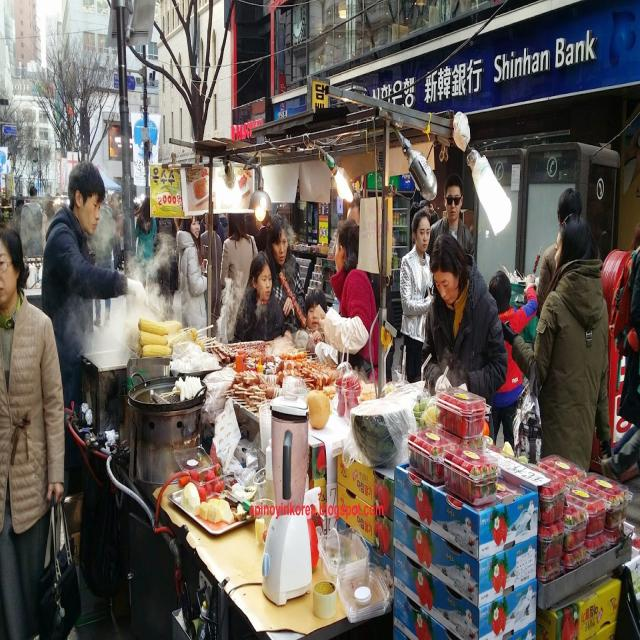body: (499, 208, 614, 477), (38, 156, 146, 424), (0, 217, 65, 640), (418, 229, 509, 452), (315, 217, 381, 386), (488, 269, 538, 458), (397, 206, 435, 384), (534, 186, 584, 319), (263, 212, 307, 338), (218, 212, 260, 344), (232, 248, 287, 344), (174, 214, 209, 352), (344, 192, 380, 320), (426, 172, 476, 264), (151, 182, 181, 330), (88, 192, 116, 327), (200, 213, 223, 317), (19, 184, 44, 258), (134, 195, 158, 264), (304, 288, 328, 343), (40, 191, 56, 256), (109, 192, 120, 272), (200, 214, 224, 240), (116, 208, 124, 264), (104, 191, 124, 208)
